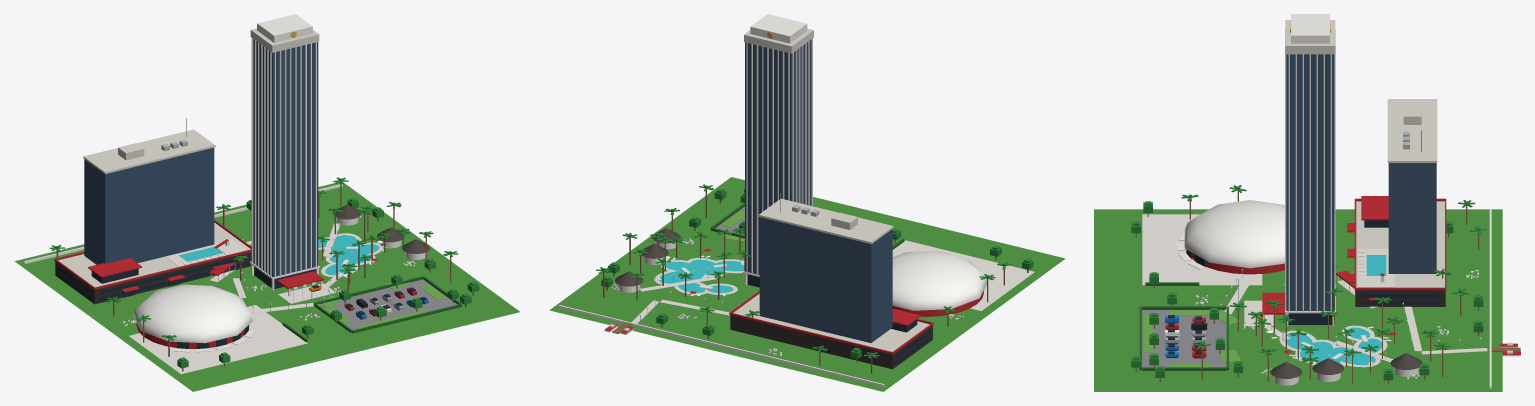
The model's file is cocody-hotel-ivoire.glb.
3 views of the same model, side by side, from view 1: azimuth 30°, elevation 25°; view 2: azimuth 150°, elevation 25°; view 3: azimuth 270°, elevation 25° (orthographic). The views are drawn at different scales.
Bounding box in the file's own units: 144 × 106 × 142.
